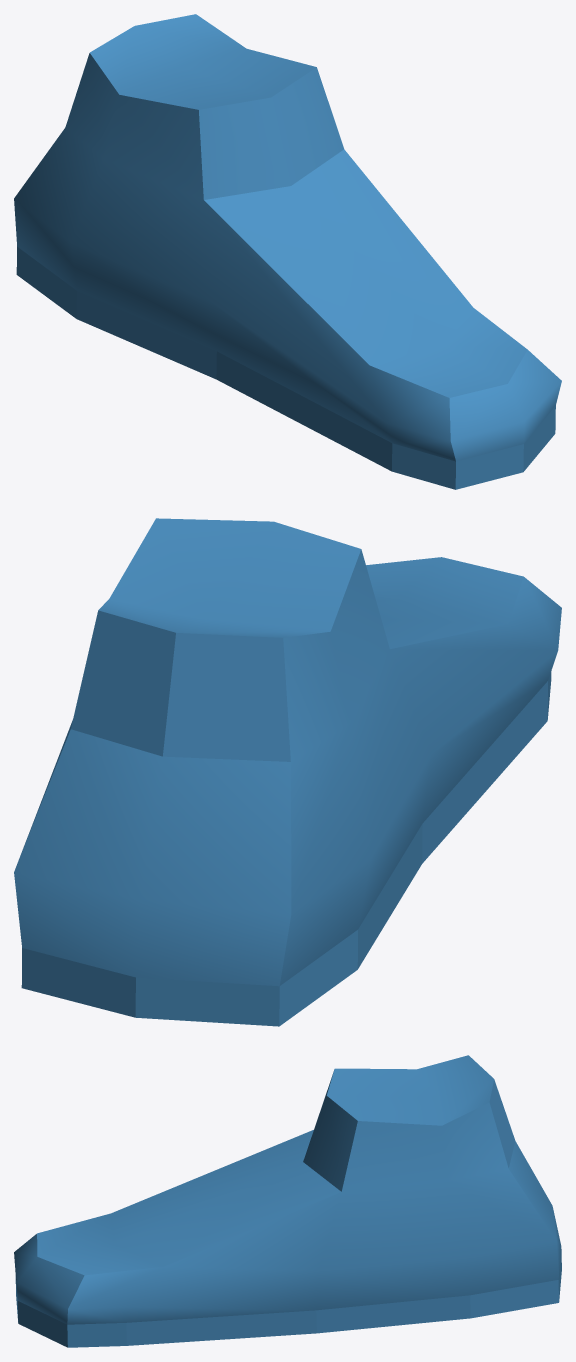
Rendered from Driver_Foot_02.fbx.
The picture shows the model from 3 angles, top to bottom: view 1: azimuth 30°, elevation 25°; view 2: azimuth 150°, elevation 25°; view 3: azimuth 270°, elevation 25°; orthographic projection. The views are drawn at different scales.
Visible parts, largest first — view 1: Driver_Foot_02; view 2: Driver_Foot_02; view 3: Driver_Foot_02.
Part boxes in pixels (x1,y1,x2,y2): Driver_Foot_02: (14,14,561,489); Driver_Foot_02: (14,518,561,1026); Driver_Foot_02: (14,1055,561,1347).
Size of the model in its own units: 16.29 by 14.91 by 35.78.
